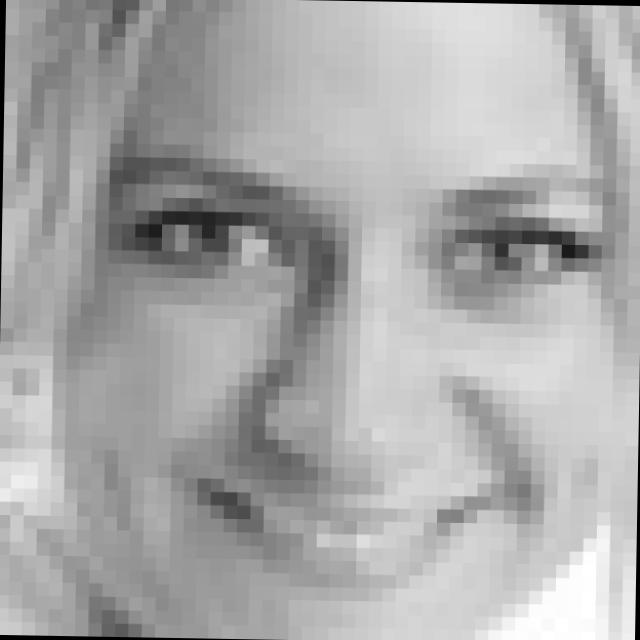happy: (92, 141, 624, 602)
